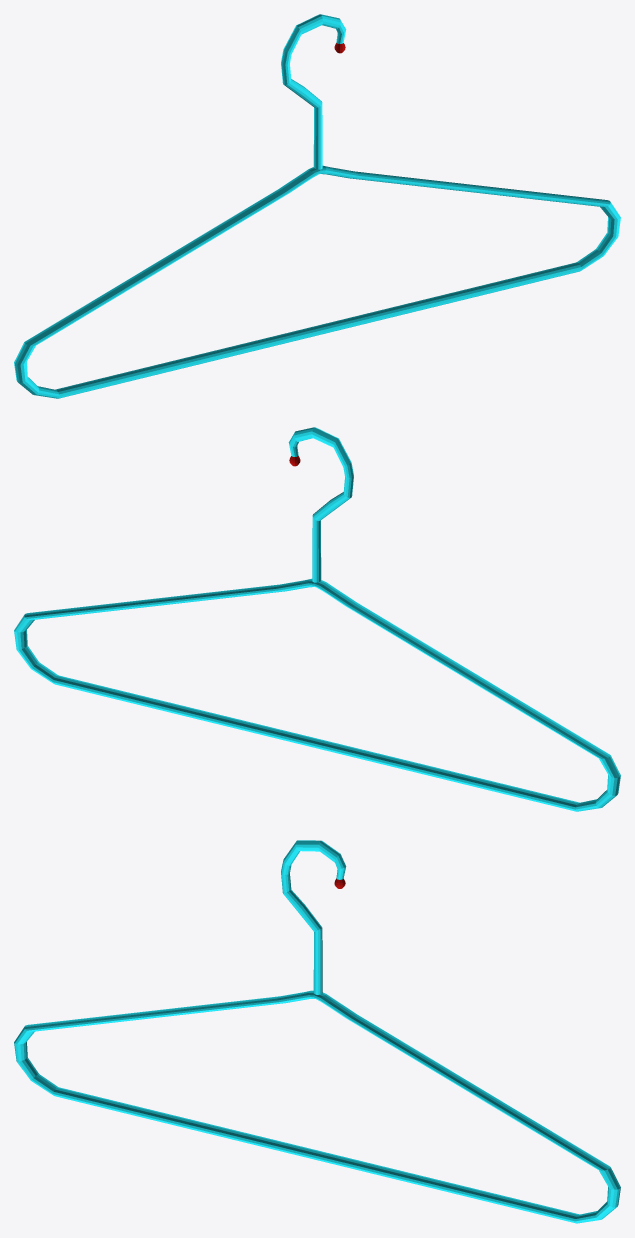
The model's file is Clothes Hanger 5.fbx.
3 renders of one model, top to bottom at view 1: azimuth 30°, elevation 25°; view 2: azimuth 150°, elevation 25°; view 3: azimuth 330°, elevation 25°, orthographic.
Parts seen in each view (by area): view 1: Node 0; view 2: Node 0; view 3: Node 0.
Boxes of the visible parts, box(x1,y1,x2,y2) form: Node 0: box(14, 14, 620, 398); Node 0: box(14, 427, 620, 811); Node 0: box(14, 840, 620, 1223).
Bounding box in the file's own units: 0.0127 × 0.3431 × 0.6804.
